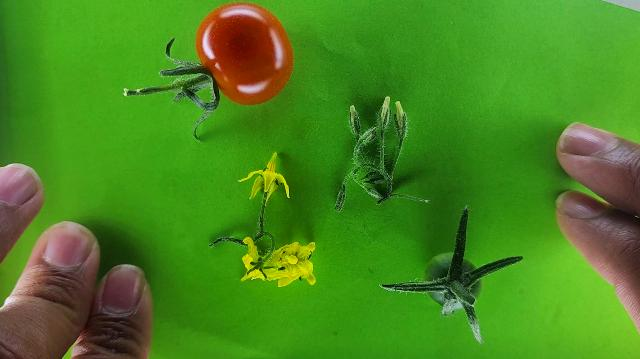Anthesis: (238, 150, 291, 203), (263, 242, 316, 287)
Flower Bud: (334, 180, 347, 213), (381, 97, 390, 122), (395, 100, 404, 118), (350, 105, 355, 119)
Fruit Maturation: (424, 253, 482, 310)
Fully Grown: (197, 2, 296, 105)
